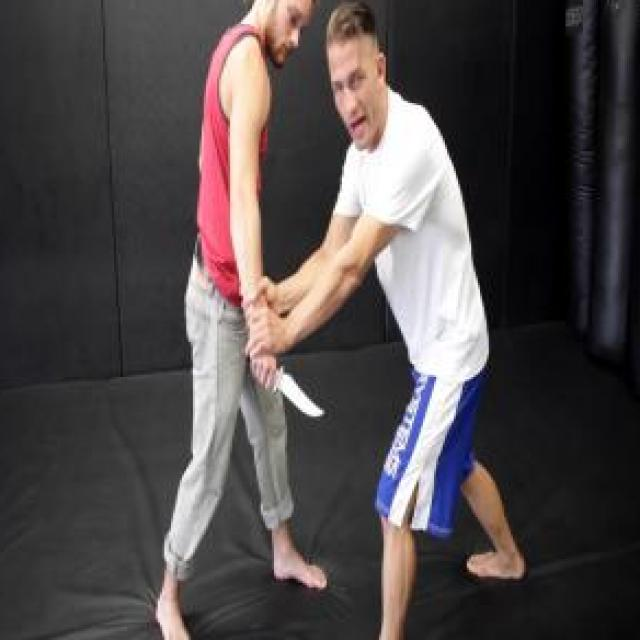knife: (245, 351, 328, 428)
